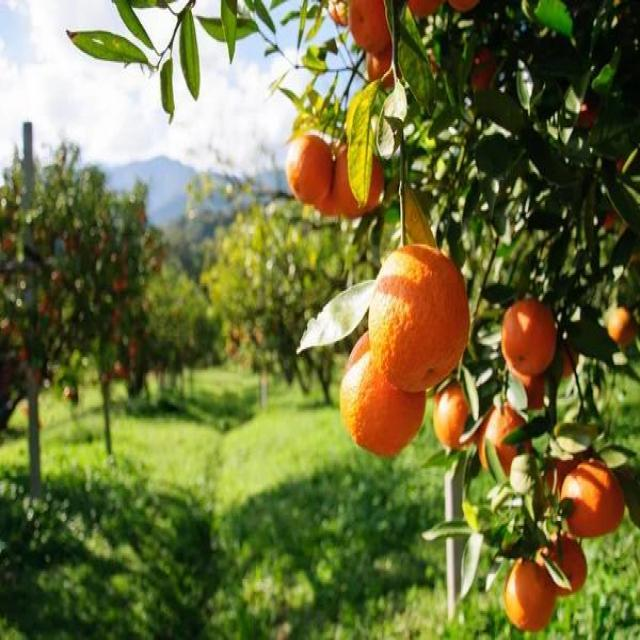Jeruk Sudah Matang: (369, 242, 472, 392), (342, 326, 427, 458), (564, 455, 626, 540), (477, 397, 535, 479), (503, 556, 558, 632), (501, 298, 555, 373), (329, 137, 382, 212), (289, 137, 334, 212), (536, 530, 588, 594), (344, 0, 394, 55), (434, 383, 469, 458), (466, 44, 499, 92), (510, 364, 548, 404), (367, 55, 401, 98), (548, 334, 578, 376), (608, 307, 638, 344), (446, 0, 484, 18), (405, 0, 445, 16)
